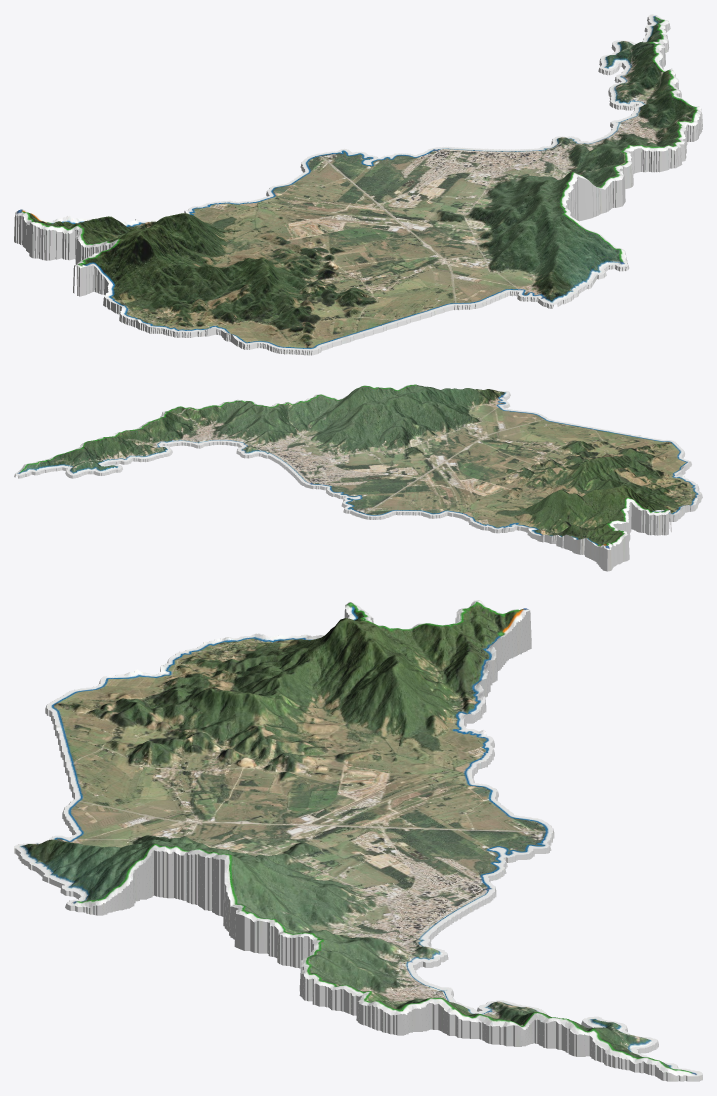
Rendered from porto_belo.glb.
The picture shows the model from 3 angles, top to bottom: view 1: azimuth 30°, elevation 25°; view 2: azimuth 150°, elevation 25°; view 3: azimuth 270°, elevation 25°; orthographic projection. The views are drawn at different scales.
Size of the model in its own units: 1 by 0.0634 by 0.6576.
Materials: 1 (1 with a texture image).
